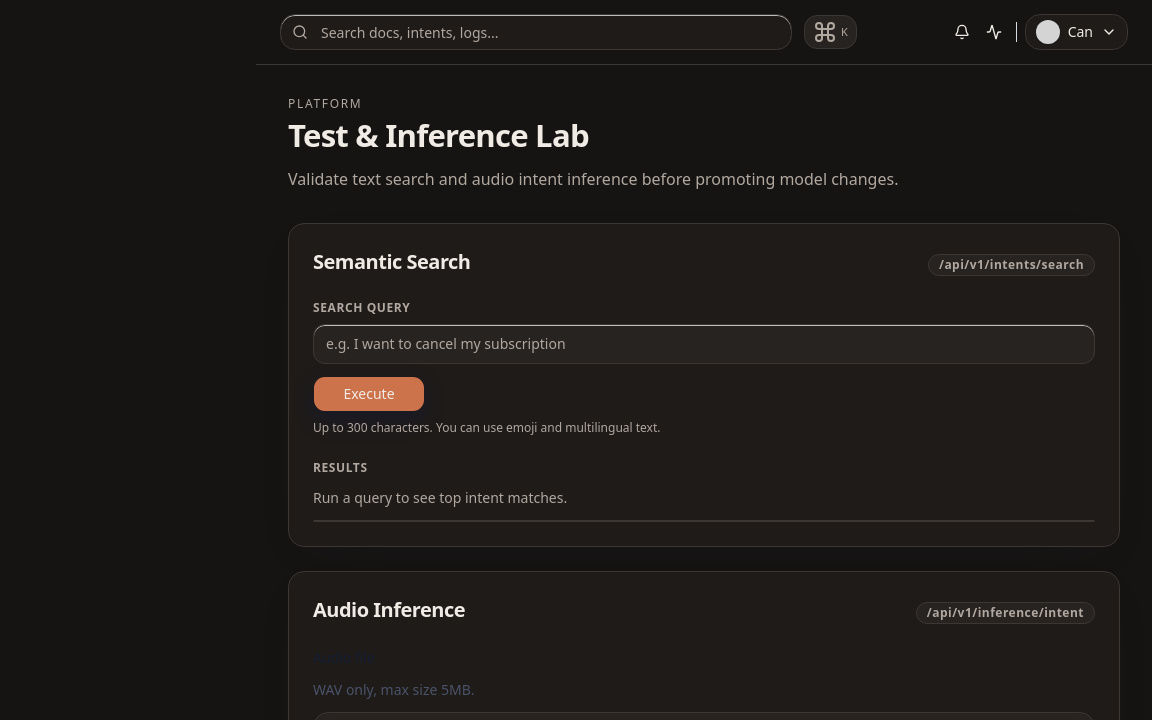
Test: TestLabPage semantic search › shows validation error when query is empty
Click the button "Execute": (369, 394) [313,376,425,412]
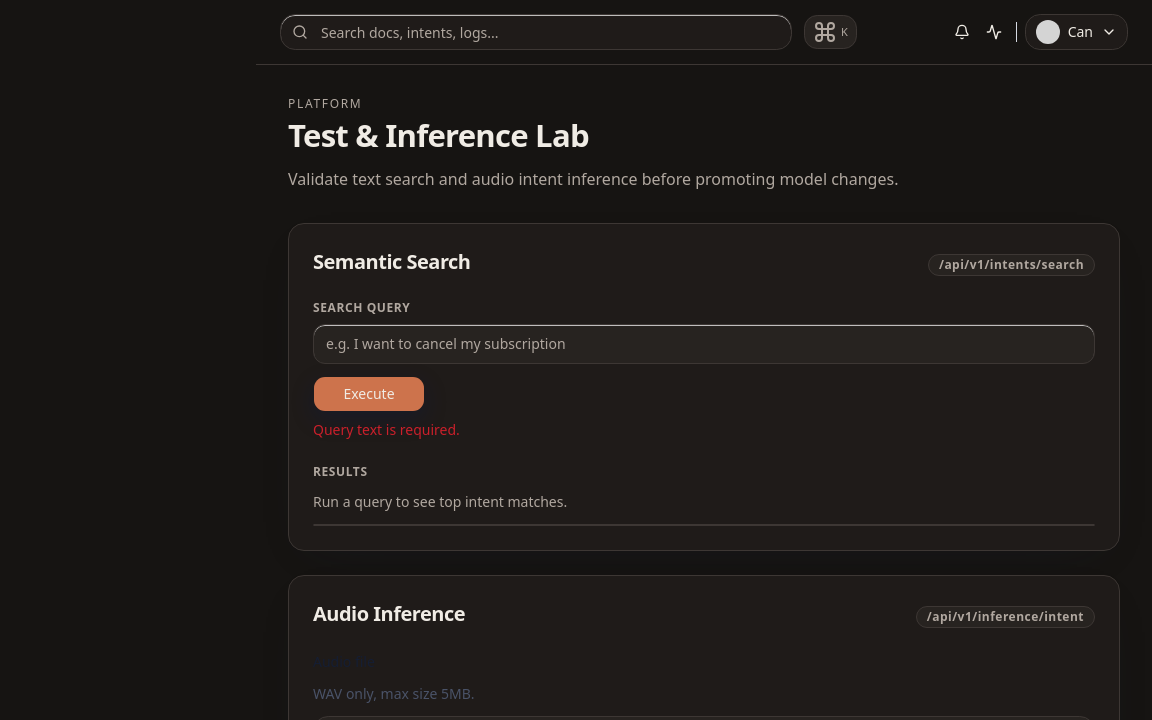
Expected: the text "Query text is required." is shown, [313,420,460,439]
